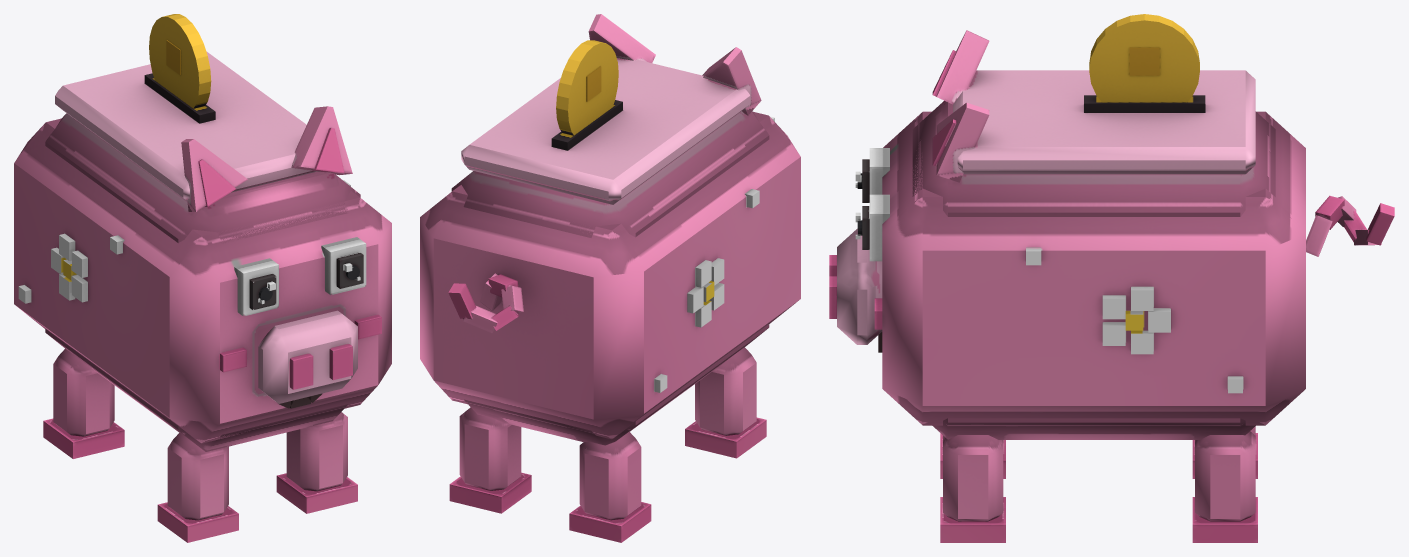
The model's file is CochonTirelire_Rig.fbx.
3 renders of one model, left to right at view 1: azimuth 30°, elevation 25°; view 2: azimuth 150°, elevation 25°; view 3: azimuth 270°, elevation 25°, orthographic. The views are drawn at different scales.
Parts seen in each view (by area): view 1: Body, LegFR, LegBR, LegFL, EarL, EarR; view 2: Body, LegBR, LegBL, LegFR, Tail, EarR, EarL; view 3: Body, LegBL, LegFL, Tail, EarL, EarR.
Boxes of the visible parts, x1,y1,x2,y2 form: Body: [14, 14, 391, 451]; LegFR: [157, 432, 238, 542]; LegBR: [43, 348, 124, 458]; LegFL: [276, 412, 357, 513]; EarL: [291, 106, 352, 175]; EarR: [181, 139, 247, 211]; Body: [420, 40, 800, 445]; LegBR: [569, 431, 651, 542]; LegBL: [449, 407, 531, 513]; LegFR: [685, 347, 766, 458]; Tail: [448, 273, 523, 332]; EarR: [702, 47, 761, 115]; EarL: [588, 14, 655, 62]; Body: [829, 14, 1305, 439]; LegBL: [1192, 431, 1257, 542]; LegFL: [940, 435, 1005, 542]; Tail: [1306, 195, 1394, 256]; EarL: [932, 102, 989, 182]; EarR: [932, 30, 989, 104].
Size of the model in its own units: 3.38 by 6 by 6.4.
1 material, 1 textured.
